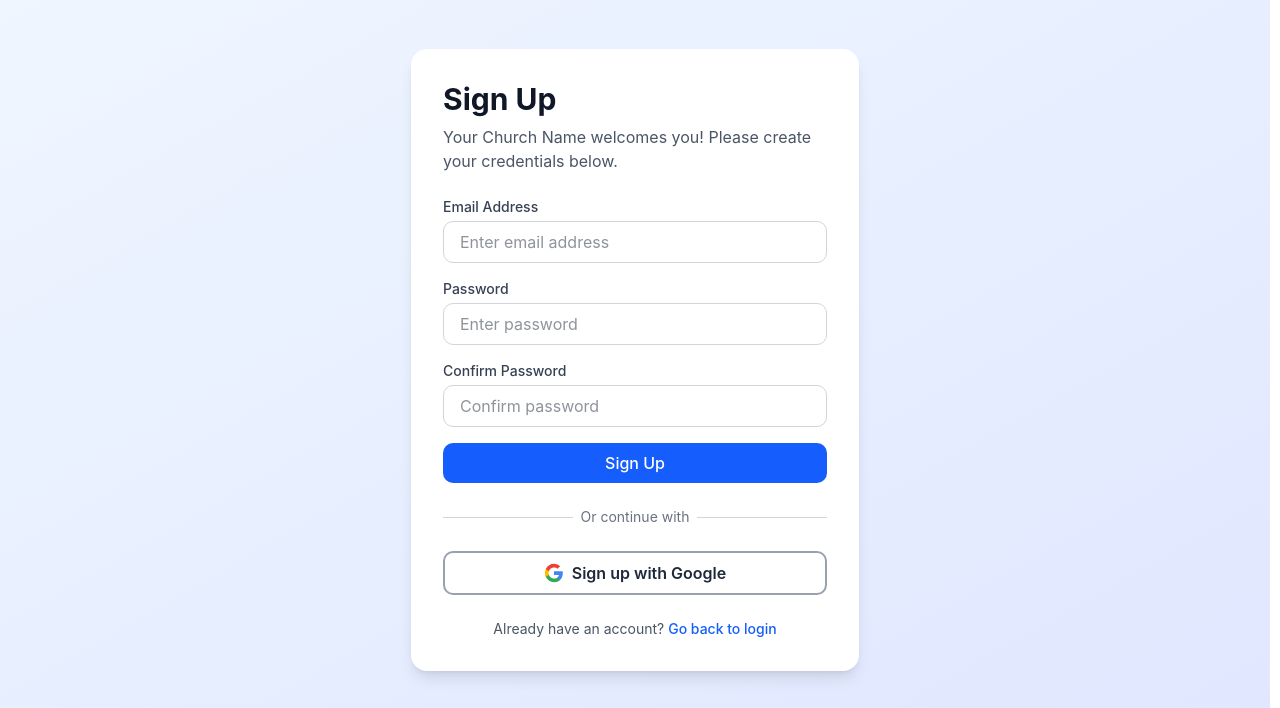
Test: Signup page › verifies password special character requirement validation
In the field with placeholder "Enter email address": (635, 242) [443,221,827,263], type "nospecial@example.com"
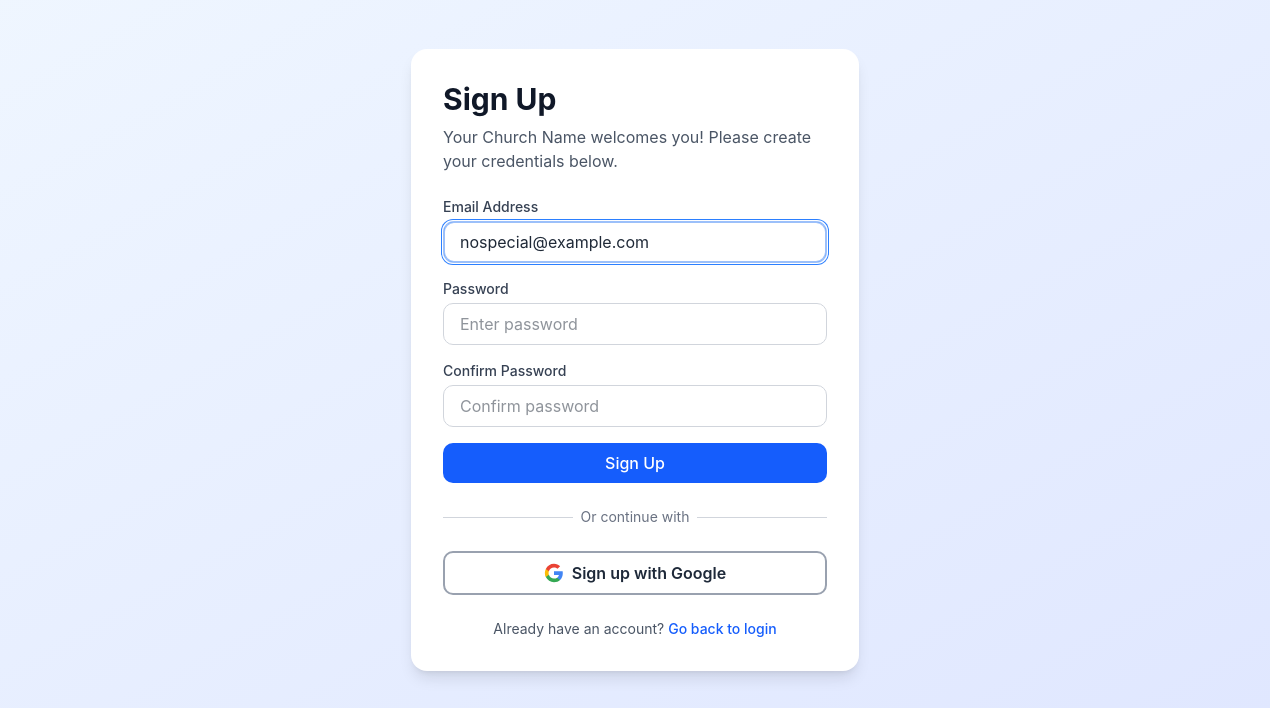
In the password field with placeholder "Enter password": (635, 324) [443,303,827,345], type "Potato123"
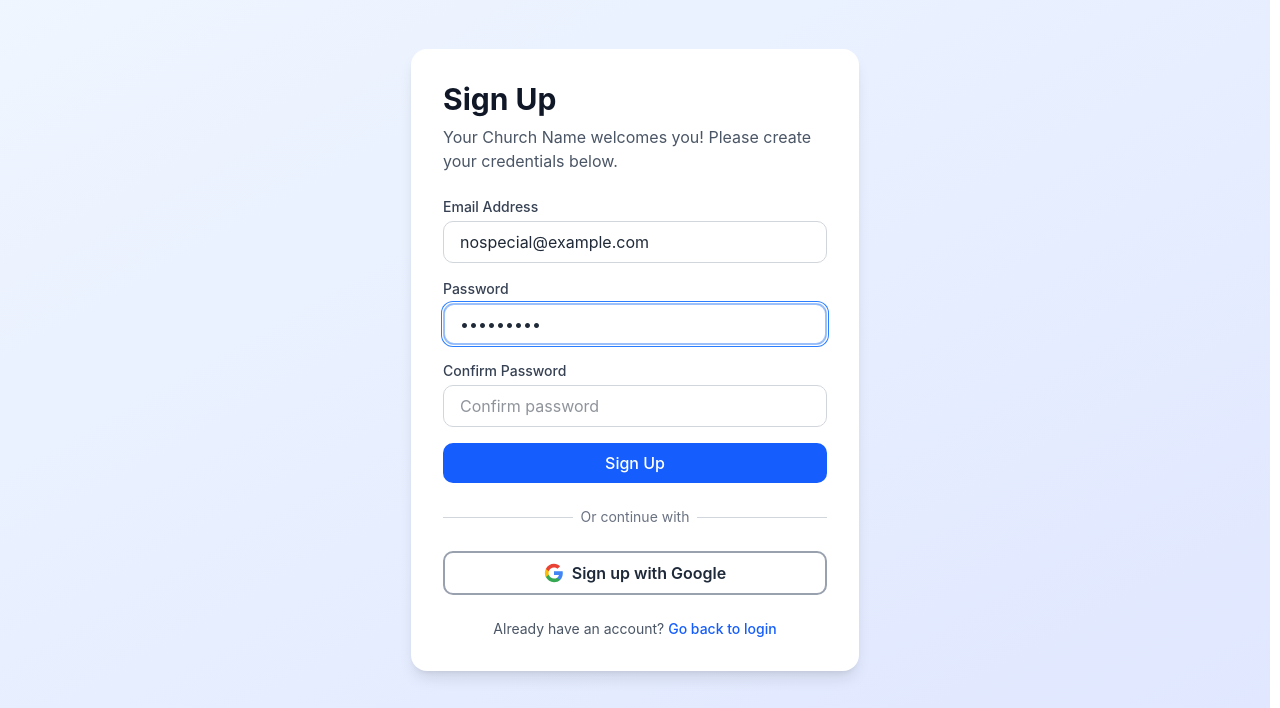
In the password field with placeholder "Confirm password": (635, 406) [443,385,827,427], type "Potato123"
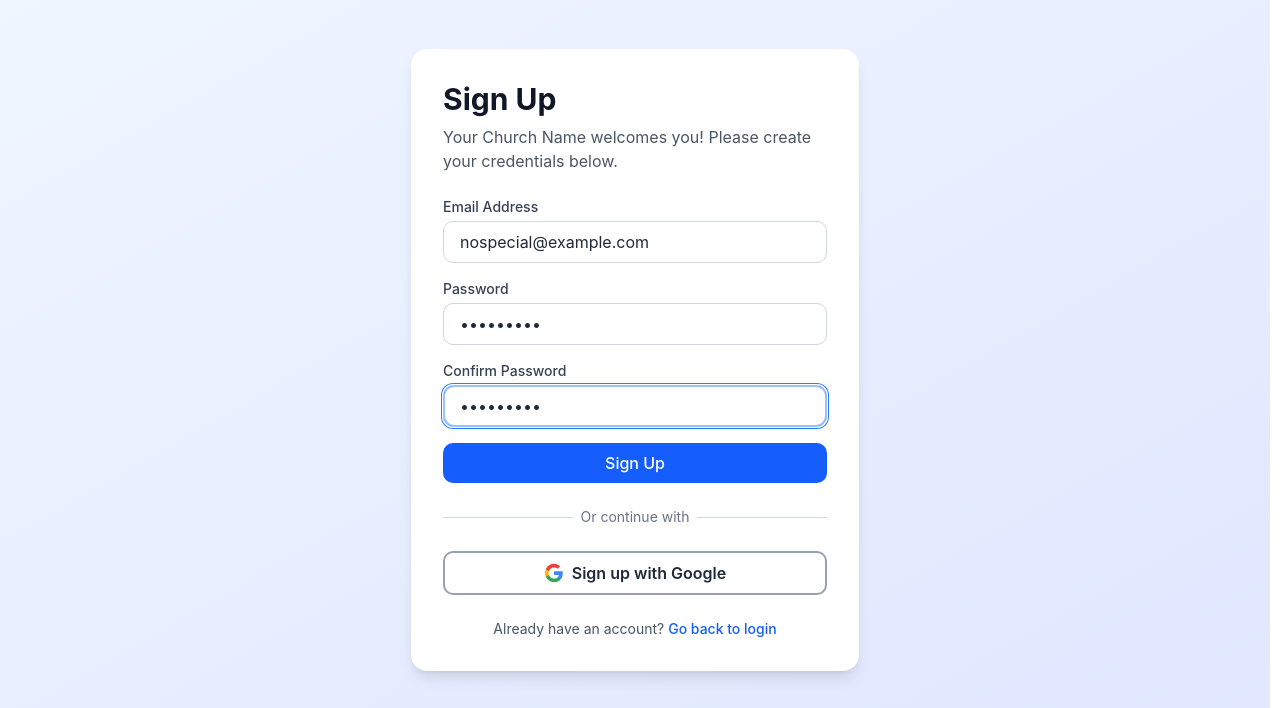
Click the submit button: (635, 463) [443,443,827,483]
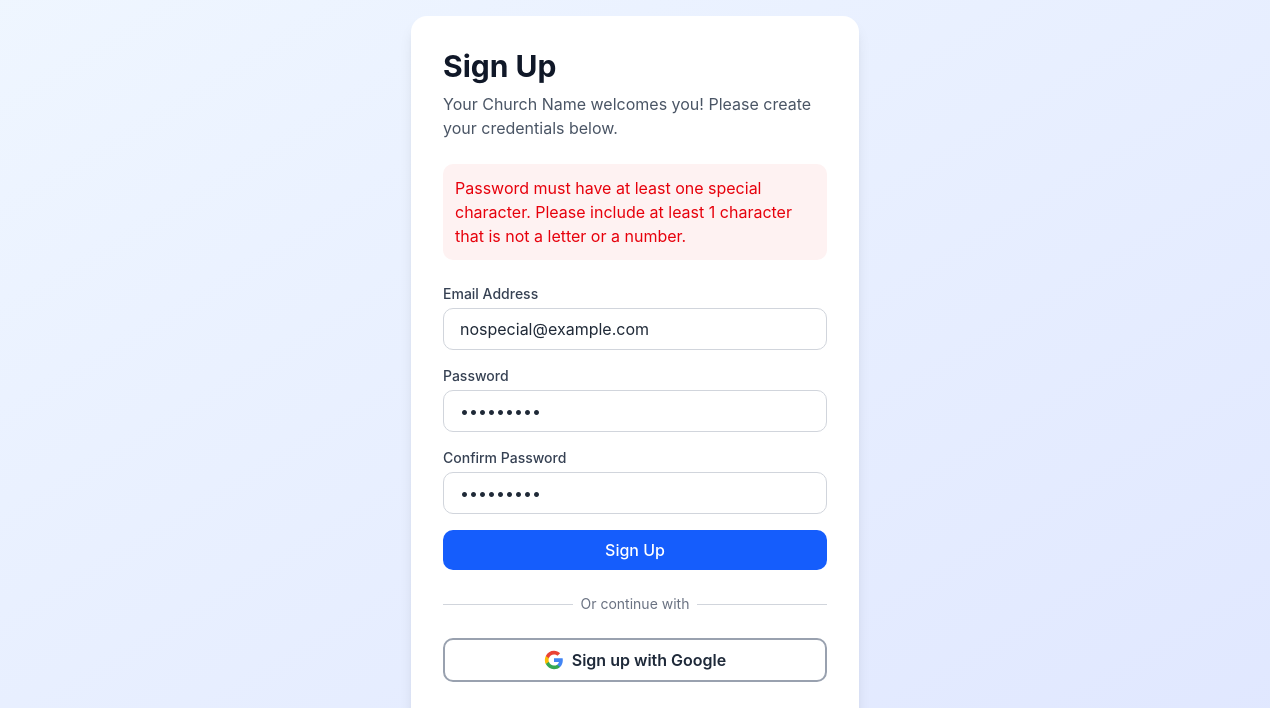
Expected: the text "Password must have at least one special character" is shown, [455,178,792,246]
